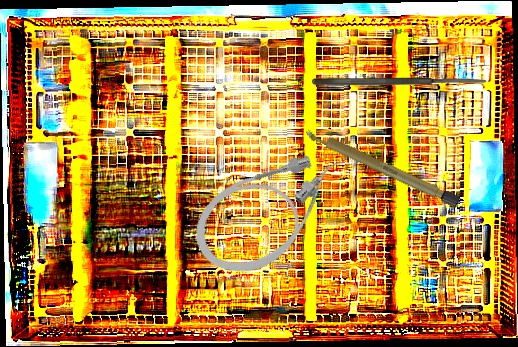Cannula: (179, 133, 368, 291)
Scalpel Handle: (301, 124, 463, 209)
Spatula Surgical: (312, 77, 488, 86)
